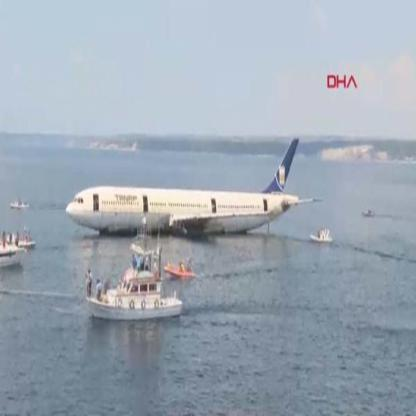CIV_Plane: (58, 134, 321, 242)
